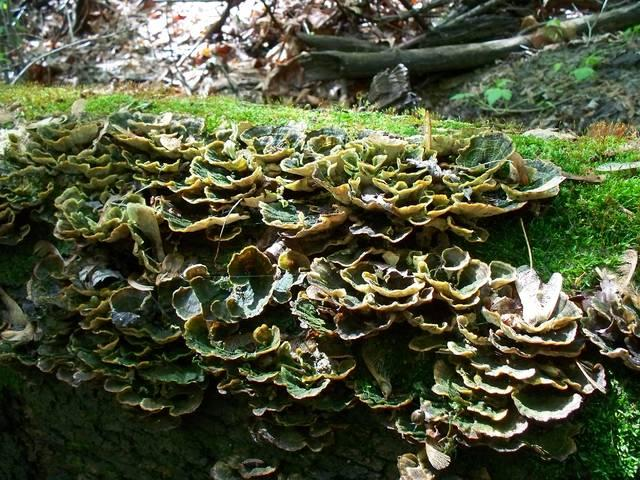Non-edible Mushroom: (1, 101, 634, 476)
